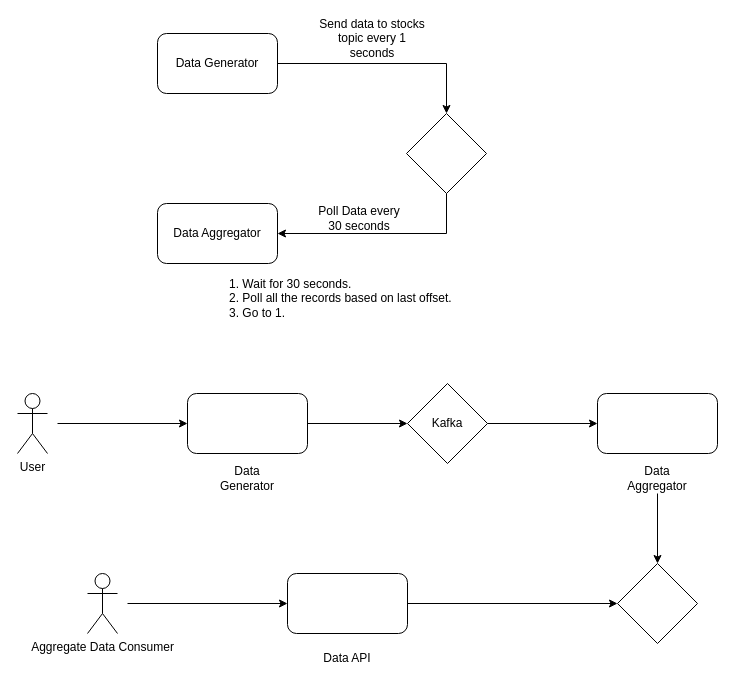
Some shapes in this 735 by 691 pixel diagram are drawn without their labels. The centre of each missing label's shape, as x and y in pixels:
"PostgreSQL" belongs at point 657,603.
"Stocks topic" belongs at point 446,153.
